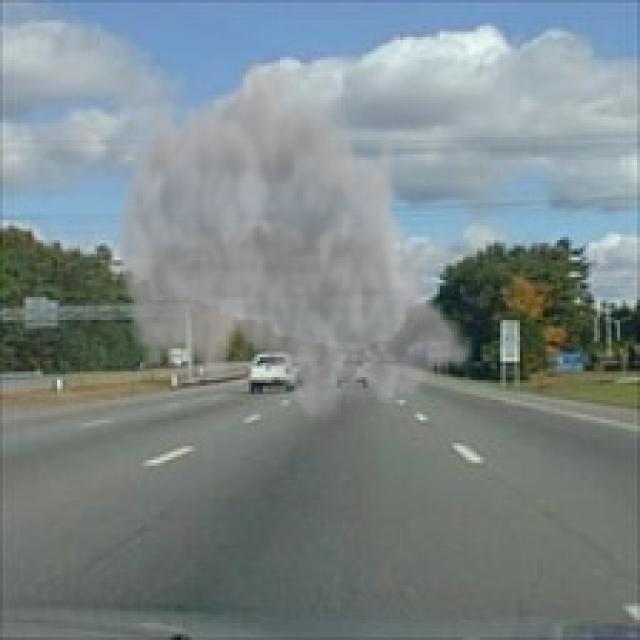smoke: (112, 49, 477, 432)
